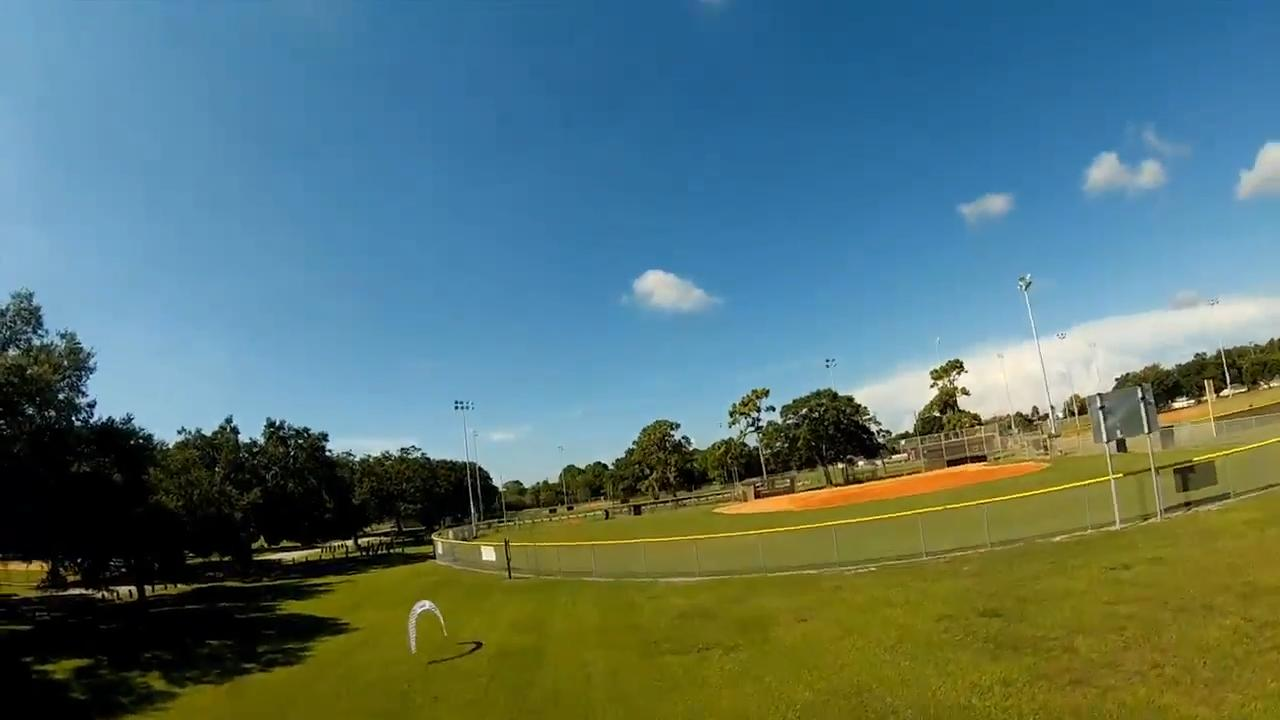gate: (405, 597, 451, 654)
